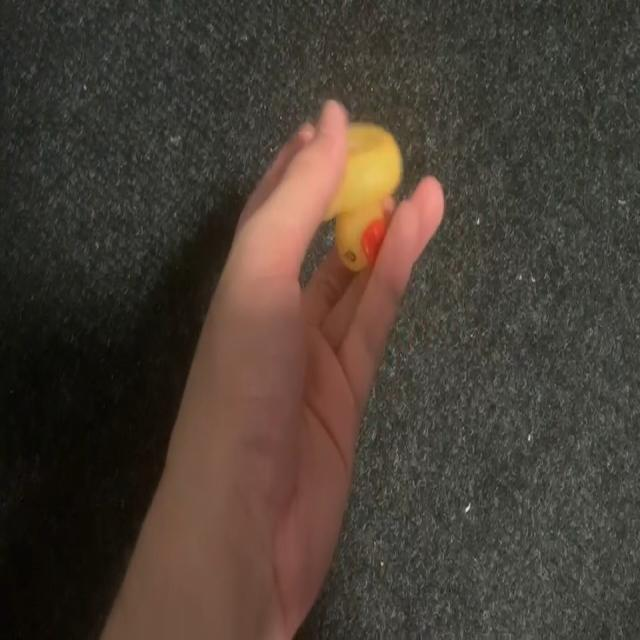rubber-duck: (325, 122, 400, 269)
